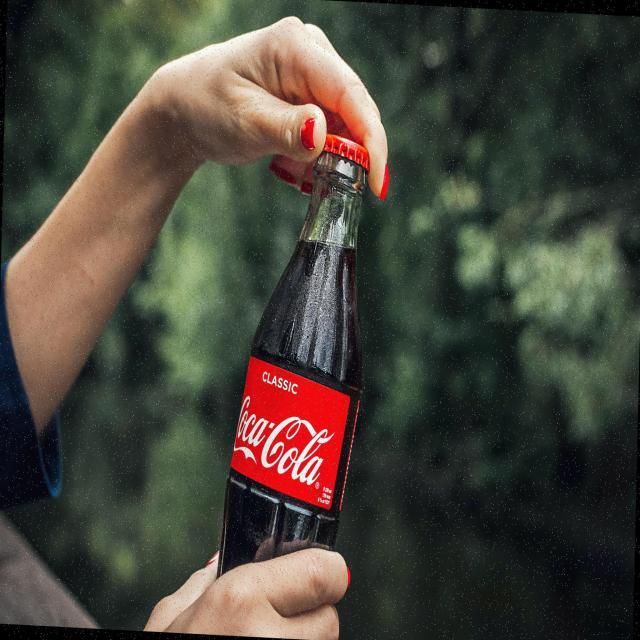coca-cola: (235, 391, 335, 493)
